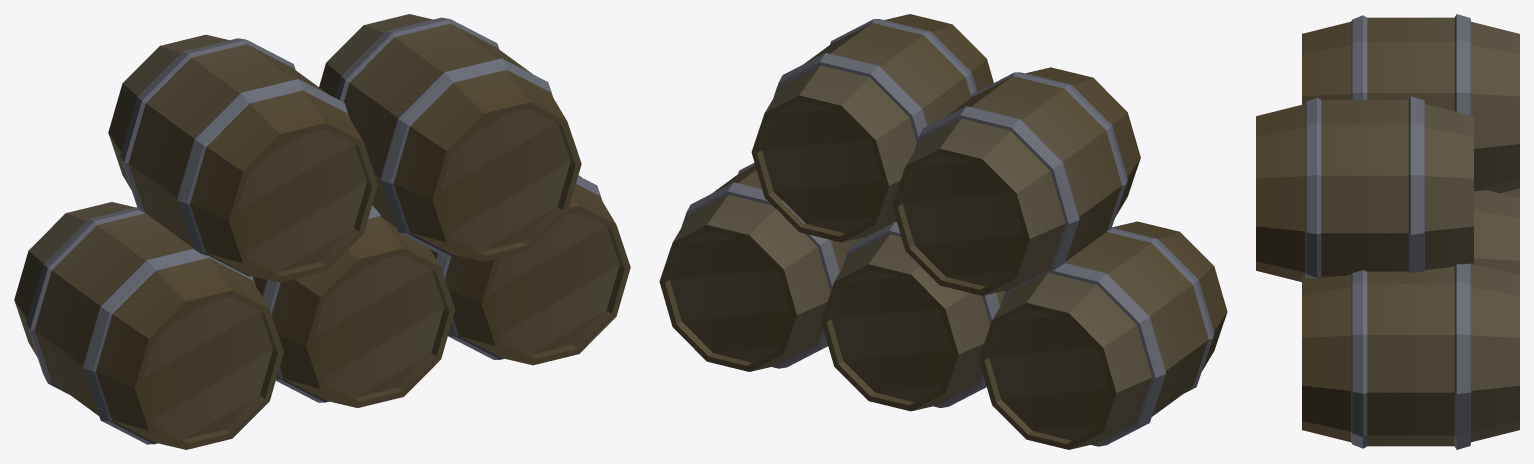
Rendered from Barrel_1C.fbx.
3 views of the same model, side by side, from view 1: azimuth 30°, elevation 25°; view 2: azimuth 150°, elevation 25°; view 3: azimuth 270°, elevation 25° (orthographic). The views are drawn at different scales.
Parts seen in each view (by area): view 1: polySurface9636; view 2: polySurface9636; view 3: polySurface9636.
Boxes of the visible parts, x1,y1,x2,y2 form: polySurface9636: [14, 14, 630, 449]; polySurface9636: [659, 14, 1227, 449]; polySurface9636: [1256, 14, 1519, 449].
Size of the model in its own units: 430 by 254 by 203.
